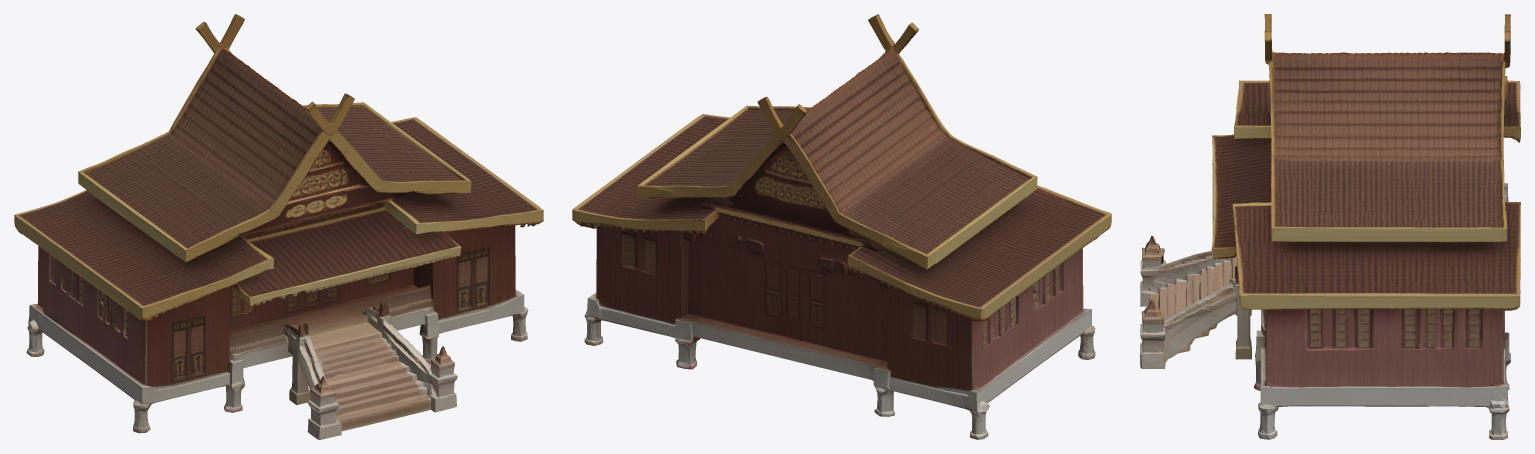
File: riau.glb
The picture shows the model from 3 angles, left to right: view 1: azimuth 30°, elevation 25°; view 2: azimuth 150°, elevation 25°; view 3: azimuth 270°, elevation 25°; orthographic projection. The views are drawn at different scales.
Parts seen in each view (by area): view 1: world; view 2: world; view 3: world.
Part boxes in pixels (x1,y1,x2,y2): world: (14,14,543,439); world: (572,14,1111,439); world: (1140,14,1520,439).
Bounding box in the file's own units: 0.7002 × 0.4756 × 0.5244.
1 material, 1 textured.
